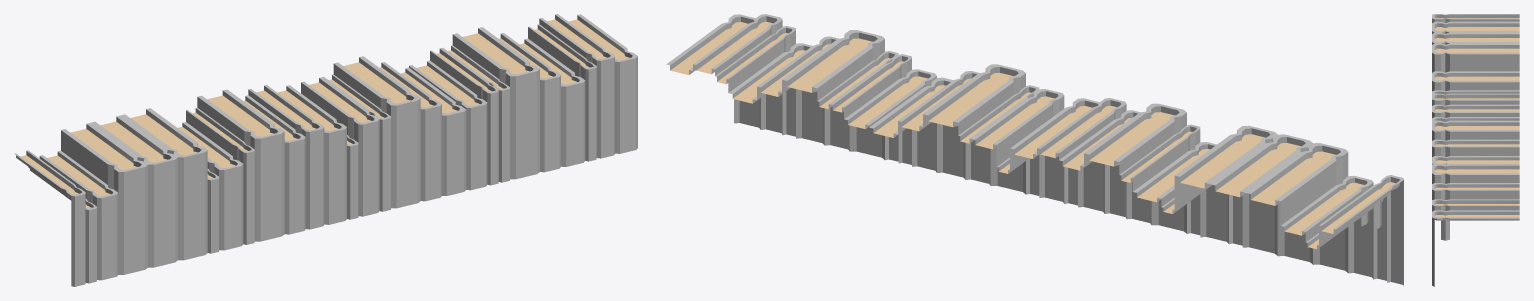
File: prop_biblioteca_libros003.fbx
3 renders of one model, left to right at view 1: azimuth 30°, elevation 25°; view 2: azimuth 150°, elevation 25°; view 3: azimuth 270°, elevation 25°, orthographic. The views are drawn at different scales.
Parts seen in each view (by area): view 1: prop_biblioteca_libros003; view 2: prop_biblioteca_libros003; view 3: prop_biblioteca_libros003.
Boxes of the visible parts, x1,y1,x2,y2 form: prop_biblioteca_libros003: [14, 14, 637, 286]; prop_biblioteca_libros003: [666, 14, 1403, 286]; prop_biblioteca_libros003: [1432, 14, 1519, 286].
Bounding box in the file's own units: 200 × 34.7 × 36.04.
